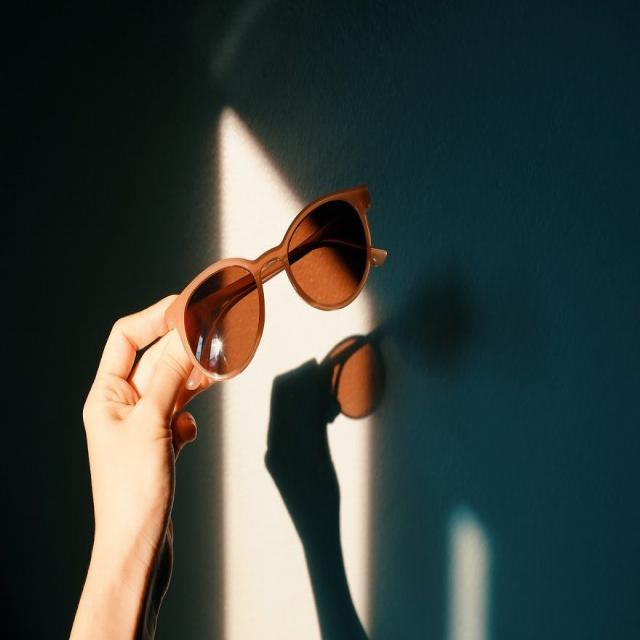glasses: (104, 164, 467, 426)
